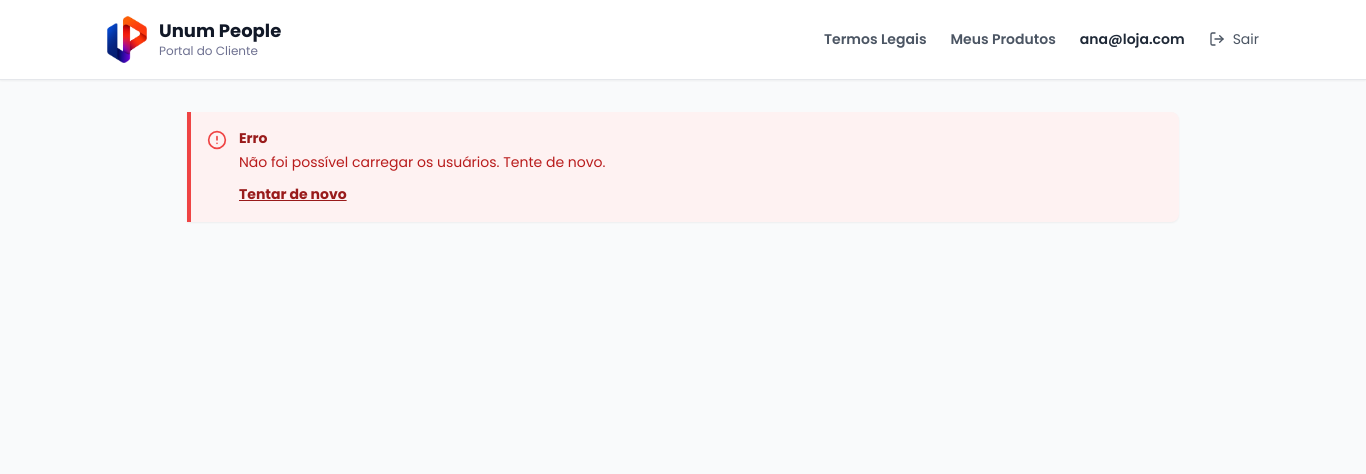
Test: Página Usuários › erro ao carregar: mensagem e Tentar de novo, que recarrega
Expected: the message shows "Não foi possível carregar os usuários. Tente de novo.", [239,152,606,172]
Click the button "Tentar de novo": [293, 194] box [239,184,347,204]
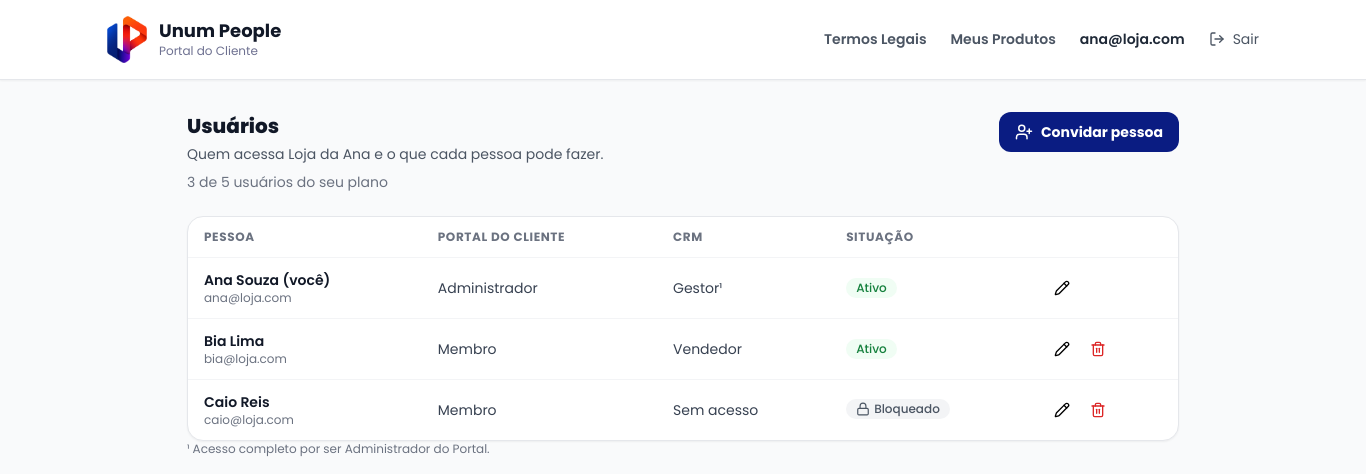
Result: the table is shown at [188,217,1178,440]
